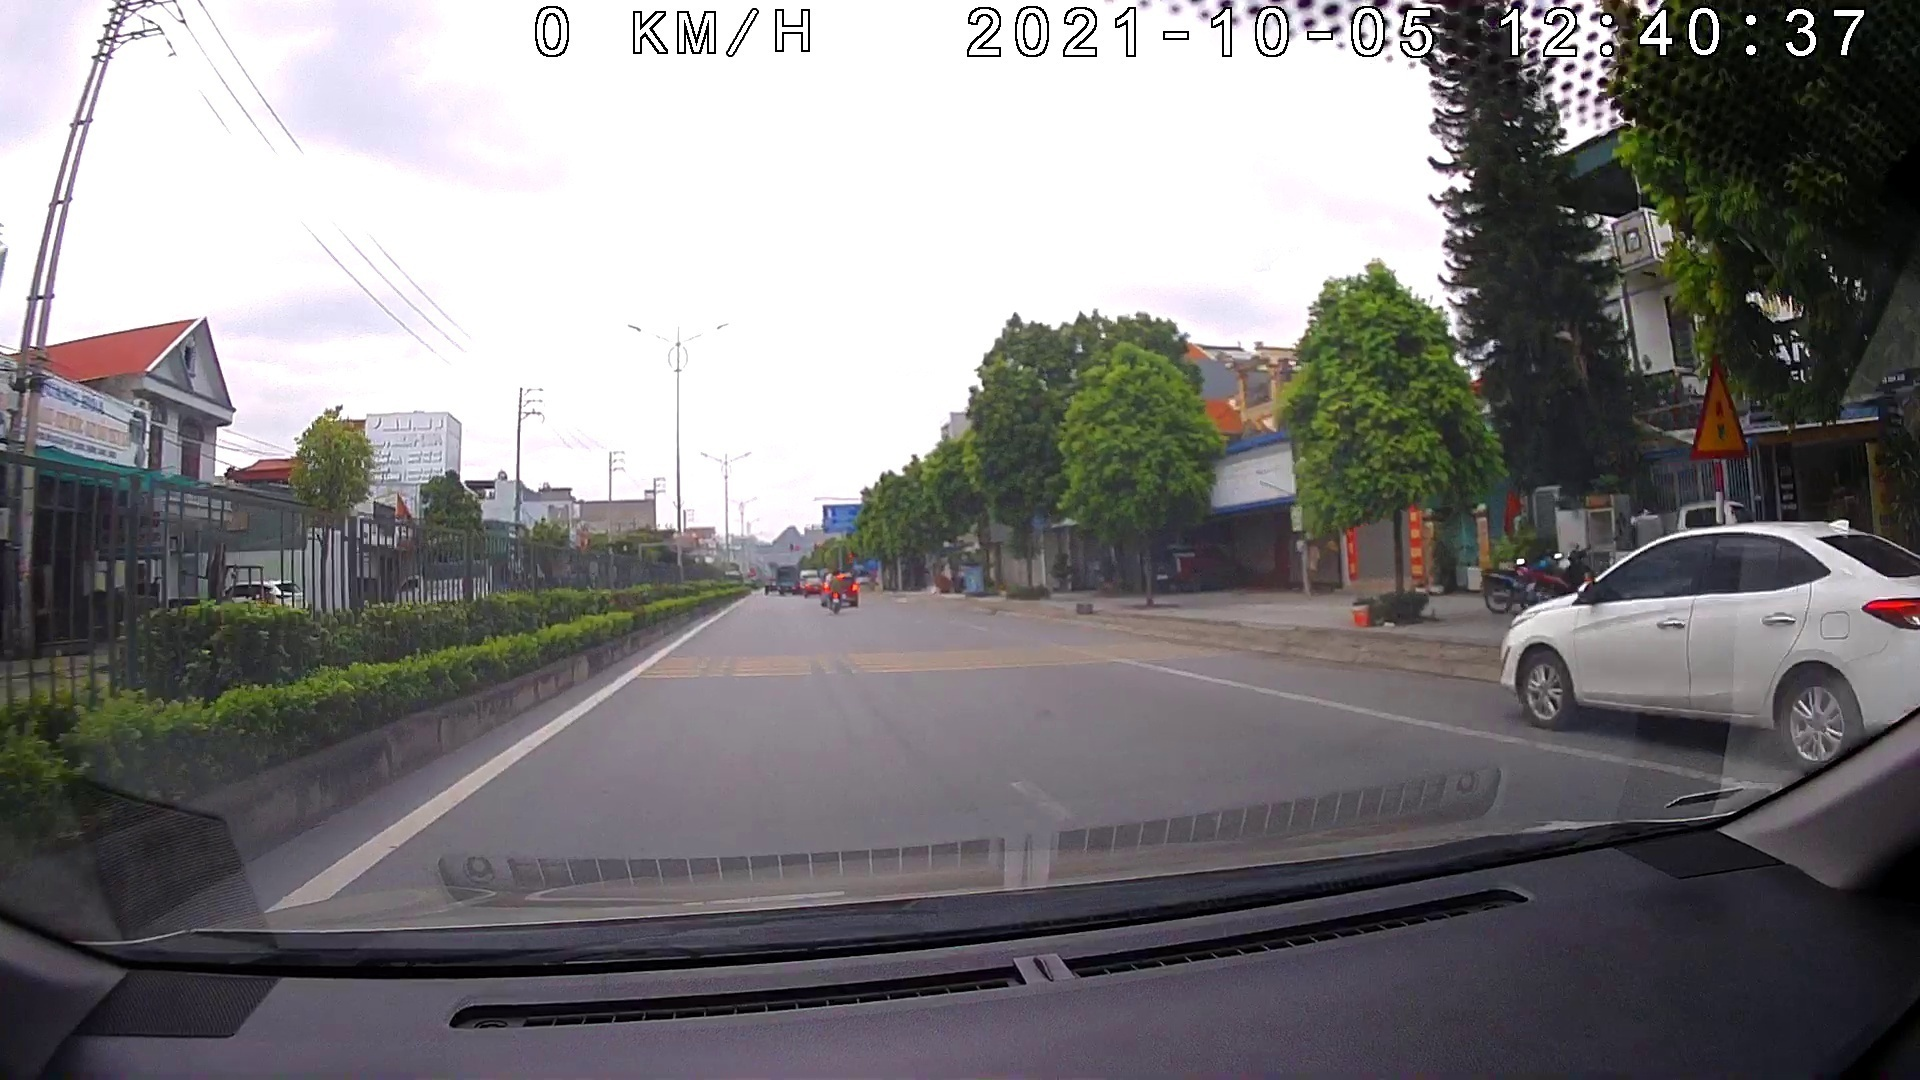Bien khac: (1689, 356, 1749, 460)
